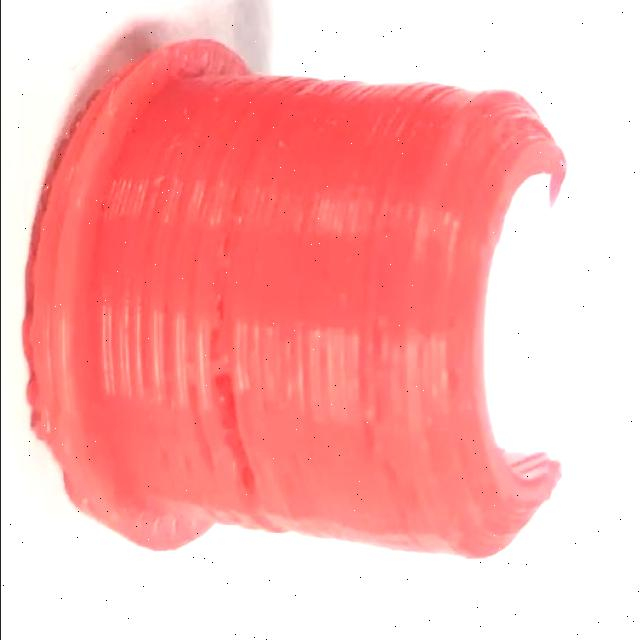cracking: (189, 264, 279, 560)
